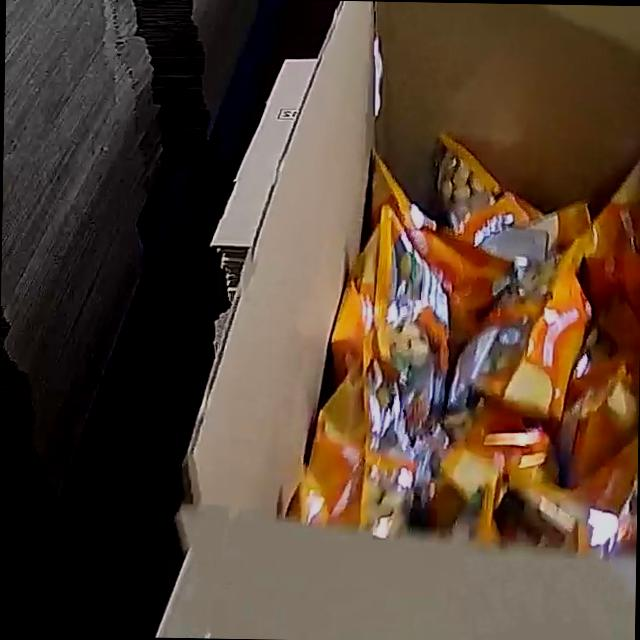cheese: (288, 124, 640, 561)
